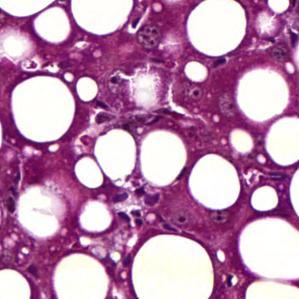steatosis: (8, 78, 78, 144), (182, 0, 250, 58), (190, 150, 244, 211), (136, 131, 188, 191)
